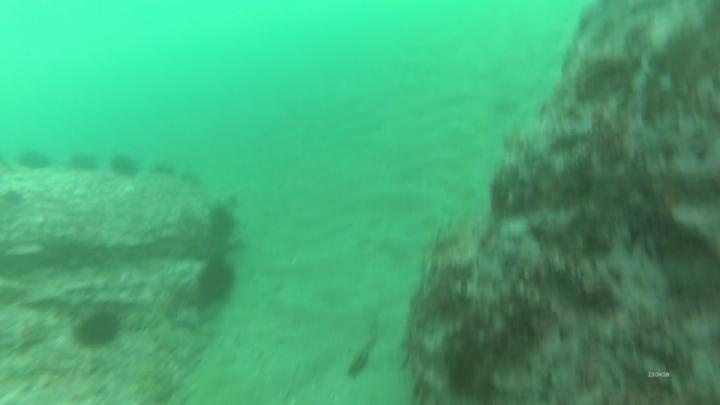echinus: (71, 307, 123, 352), (194, 258, 239, 307), (205, 203, 240, 243), (14, 146, 54, 175), (107, 151, 142, 182), (66, 149, 101, 177), (146, 162, 180, 179), (177, 171, 202, 189)
starfish: (164, 299, 214, 335)
